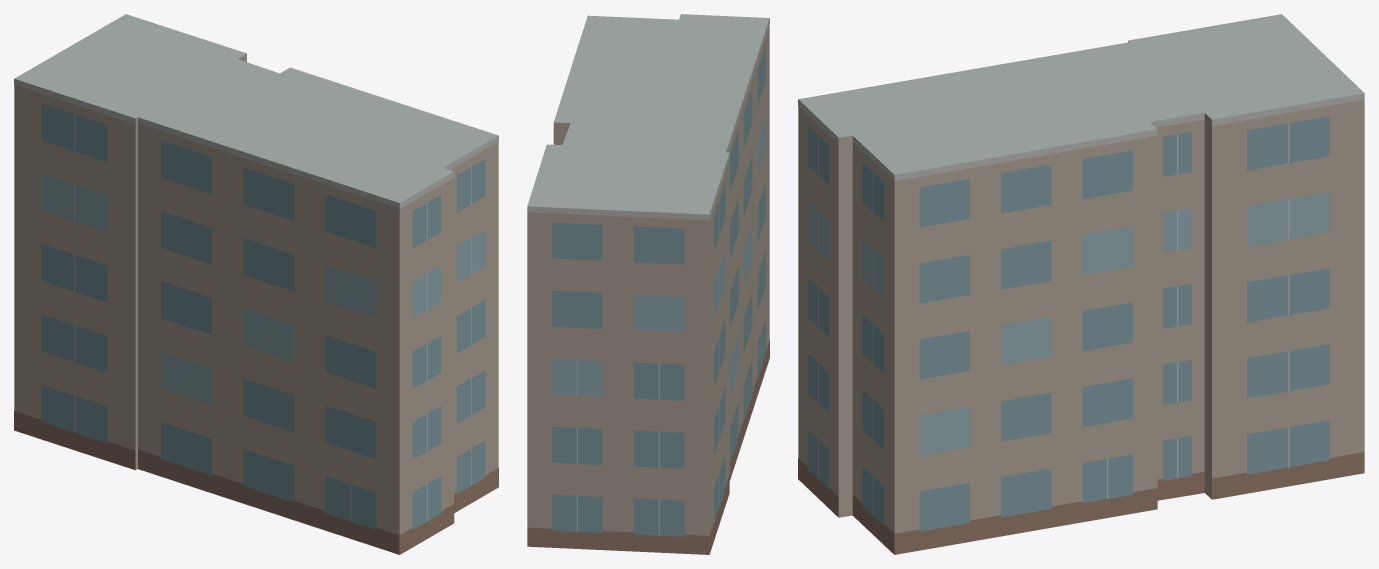
Rendered from survey-upis-32991380.glb.
3 views of the same model, side by side, from view 1: azimuth 30°, elevation 25°; view 2: azimuth 150°, elevation 25°; view 3: azimuth 270°, elevation 25° (orthographic). The views are drawn at different scales.
Visible parts, largest first — view 1: survey-upis-32991380.tmp; view 2: survey-upis-32991380.tmp; view 3: survey-upis-32991380.tmp.
Boxes of the visible parts, x1,y1,x2,y2 form: survey-upis-32991380.tmp: (14,14,498,554); survey-upis-32991380.tmp: (527,14,769,554); survey-upis-32991380.tmp: (798,14,1364,554).
Size of the model in its own units: 13.04 by 14.35 by 19.4.
